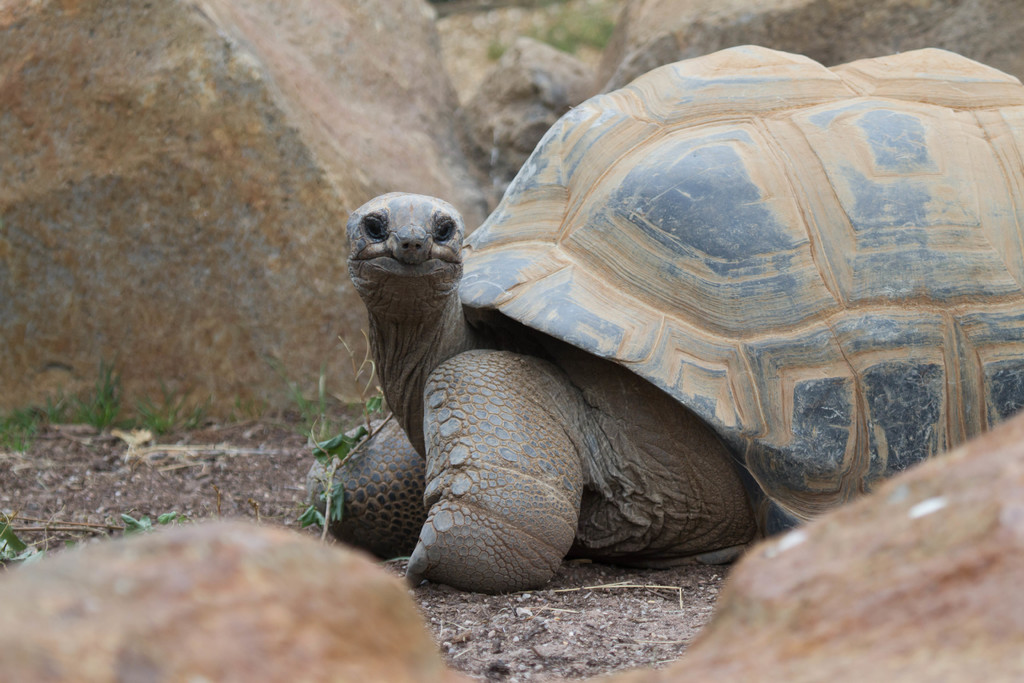Sea turtles: (305, 39, 1023, 598)
